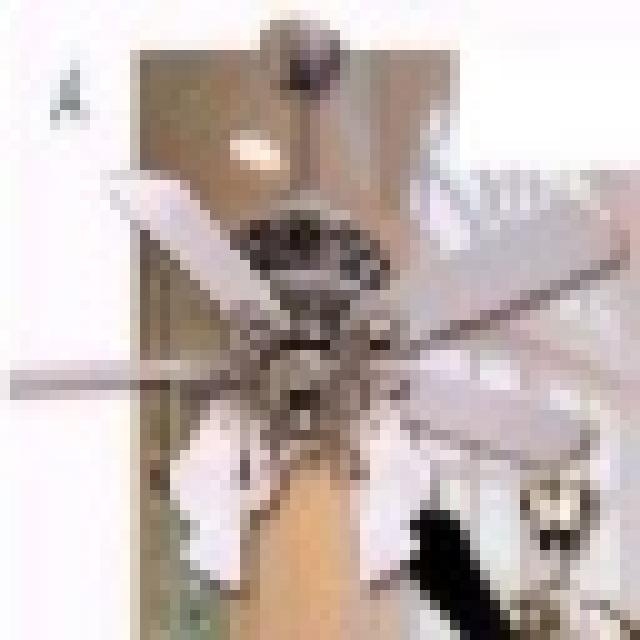Bulb: (27, 160, 621, 621)
